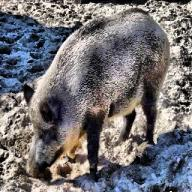boar: (22, 6, 170, 181)
